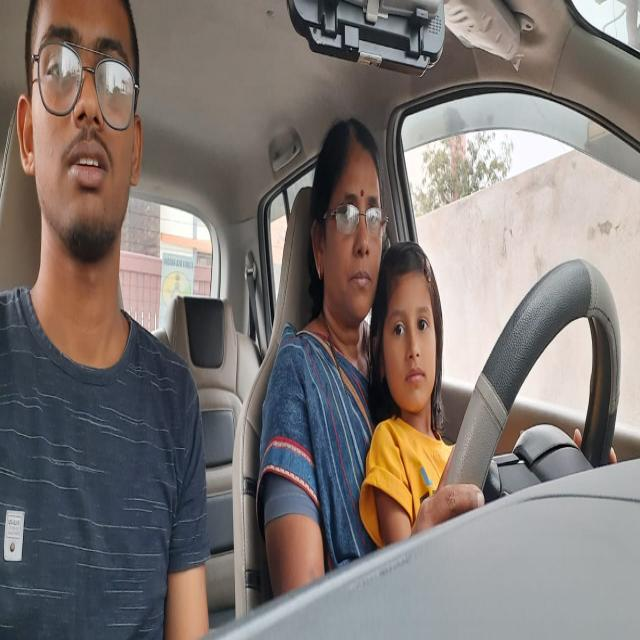child: (370, 238, 448, 440)
person: (11, 0, 149, 289), (308, 112, 384, 326)
